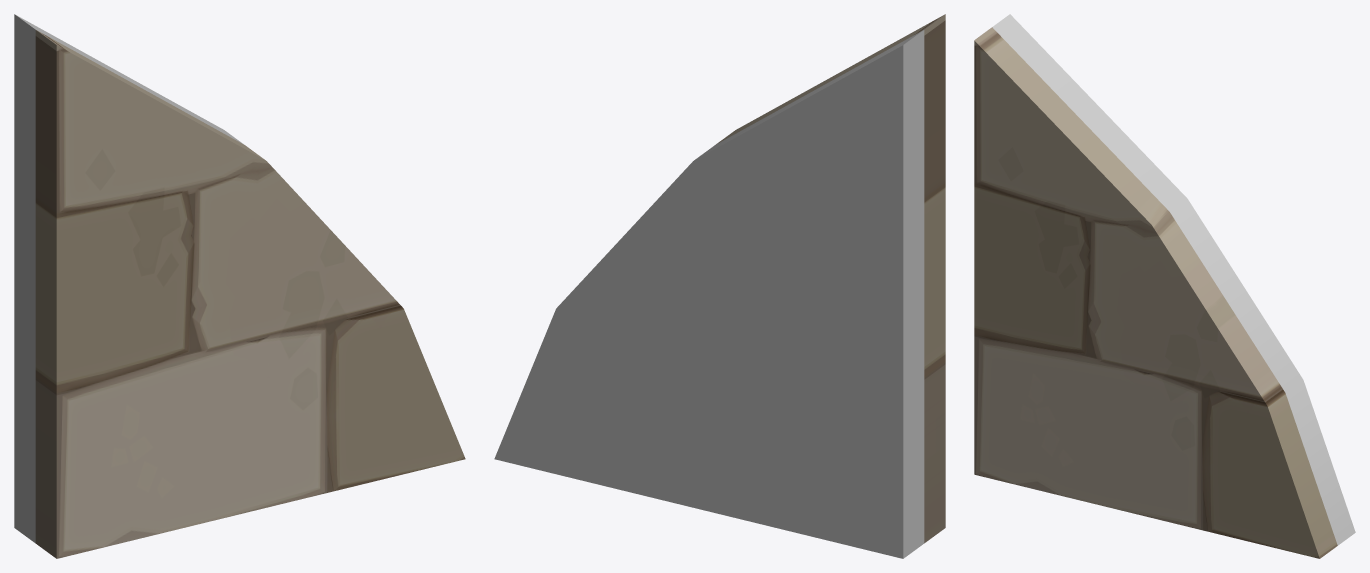
File: SM_Bld_Wall_End_Convex_Small_01.fbx
3 renders of one model, left to right at view 1: azimuth 30°, elevation 25°; view 2: azimuth 150°, elevation 25°; view 3: azimuth 330°, elevation 25°, orthographic. The views are drawn at different scales.
Visible parts, largest first — view 1: SM_Bld_Wall_End_Convex_Small_01; view 2: SM_Bld_Wall_End_Convex_Small_01; view 3: SM_Bld_Wall_End_Convex_Small_01.
Part boxes in pixels (left/top/right/bottom): SM_Bld_Wall_End_Convex_Small_01: left=14, top=14, right=465, bottom=558; SM_Bld_Wall_End_Convex_Small_01: left=494, top=14, right=945, bottom=558; SM_Bld_Wall_End_Convex_Small_01: left=974, top=14, right=1355, bottom=558.
Bounding box in the file's own units: 125 × 150 × 22.5.
